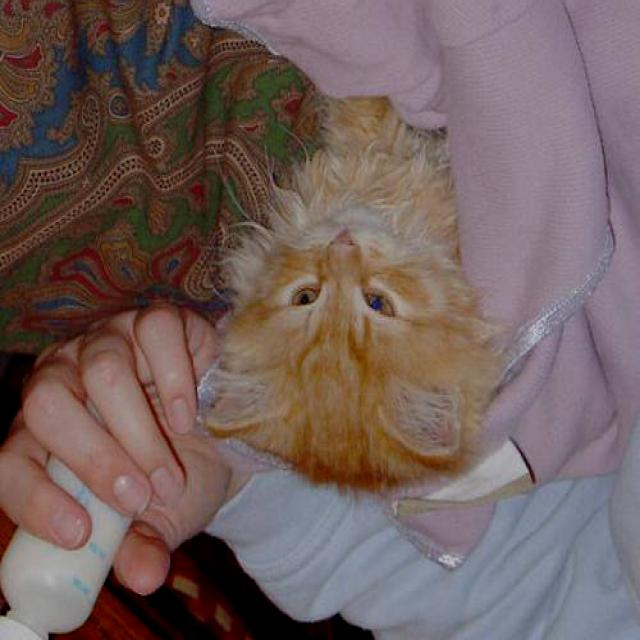Kucing: (197, 129, 503, 460)
